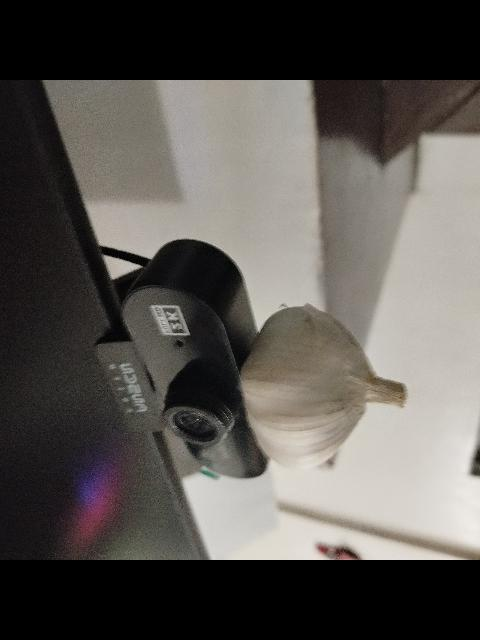garlic: (239, 302, 408, 470)
